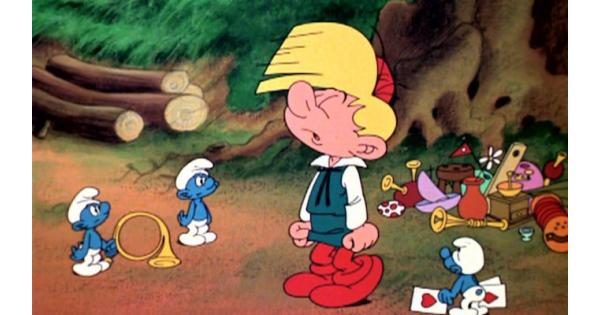smurf: (62, 185, 121, 278), (170, 157, 220, 247), (440, 233, 493, 314)
